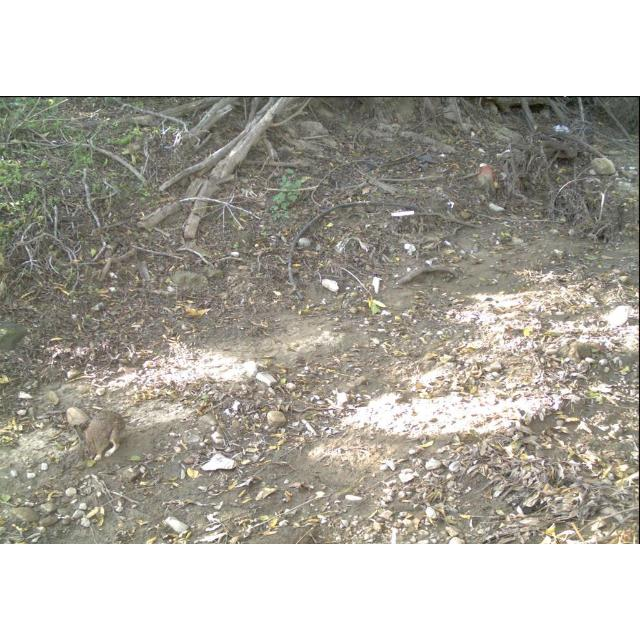animals: (76, 406, 128, 466)
